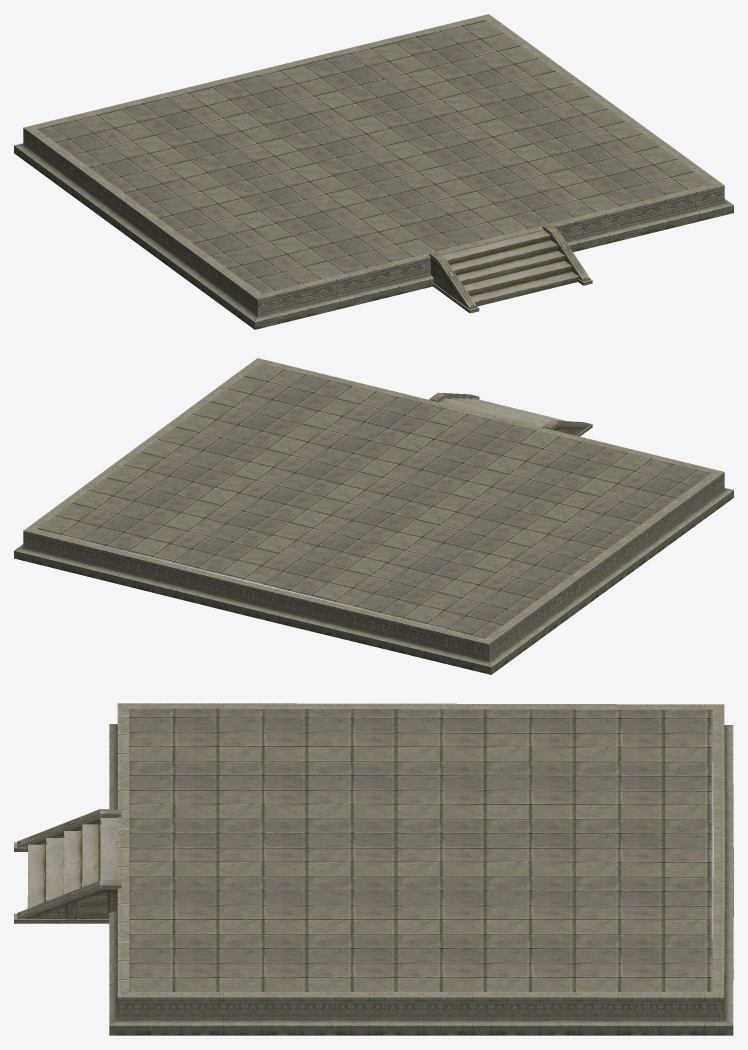
File: Youshuizhou_zhiwu_032_1.FBX
The picture shows the model from 3 angles, top to bottom: view 1: azimuth 30°, elevation 25°; view 2: azimuth 150°, elevation 25°; view 3: azimuth 270°, elevation 25°; orthographic projection. The views are drawn at different scales.
Parts seen in each view (by area): view 1: Object005, Object124a; view 2: Object005, Object124a; view 3: Object005, Object124a.
Boxes of the visible parts, x1,y1,x2,y2 form: Object005: [37, 19, 710, 293]; Object124a: [14, 14, 733, 329]; Object005: [37, 363, 711, 638]; Object124a: [14, 358, 733, 674]; Object005: [129, 708, 712, 991]; Object124a: [14, 703, 733, 1035].
Size of the model in its own units: 375 by 22.41 by 378.
2 materials, 2 textured.
